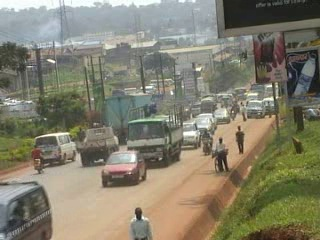Car: (98, 145, 147, 188), (180, 117, 200, 147), (194, 111, 219, 129), (154, 112, 182, 128), (195, 113, 214, 135), (212, 107, 230, 123), (191, 101, 202, 117)
Motorcycle: (29, 144, 46, 175), (200, 130, 217, 156), (227, 105, 238, 123)
